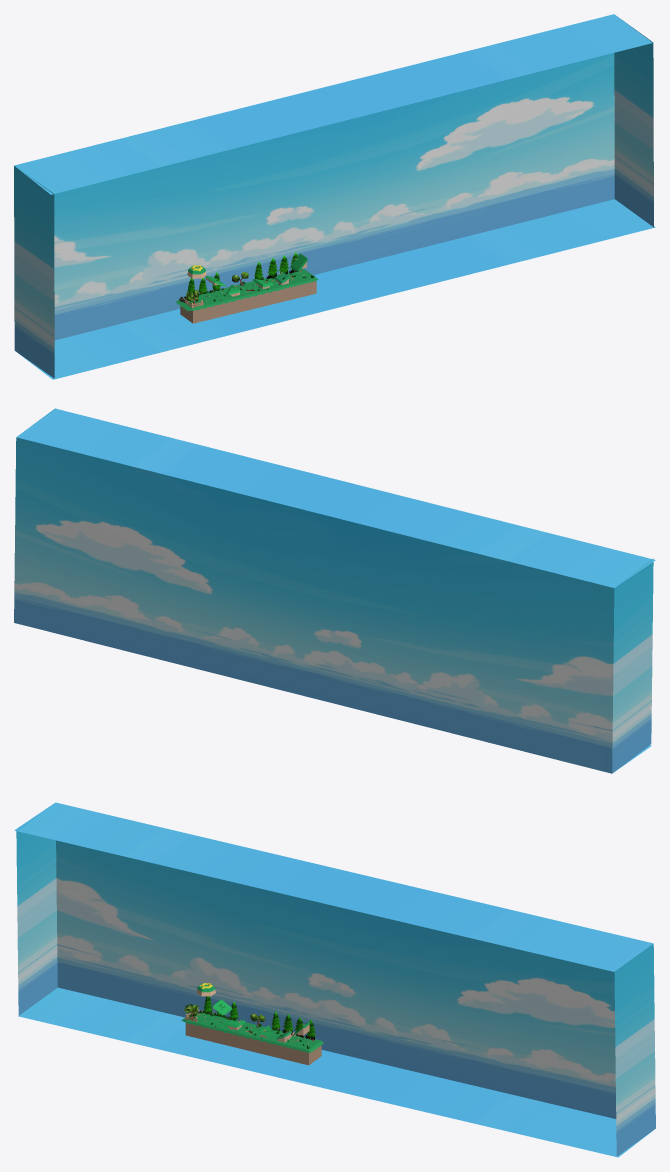
File: Langit lupa.glb
3 views of the same model, one above another, from view 1: azimuth 30°, elevation 25°; view 2: azimuth 150°, elevation 25°; view 3: azimuth 330°, elevation 25° (orthographic).
Parts seen in each view (by area): view 1: background, blockLarge.001, blockLarge.004; view 2: background; view 3: background, blockLarge.001, blockLarge.004.
Boxes of the visible parts, left/top/right/bottom form: background: left=14, top=14, right=655, bottom=379; blockLarge.001: left=175, top=279, right=280, bottom=323; blockLarge.004: left=263, top=269, right=318, bottom=302; background: left=14, top=408, right=655, bottom=773; background: left=14, top=802, right=655, bottom=1157; blockLarge.001: left=181, top=1013, right=283, bottom=1056; blockLarge.004: left=268, top=1034, right=323, bottom=1065.
Size of the model in its own units: 344 by 104 by 39.94.
Materials: 61 (12 with a texture image).
